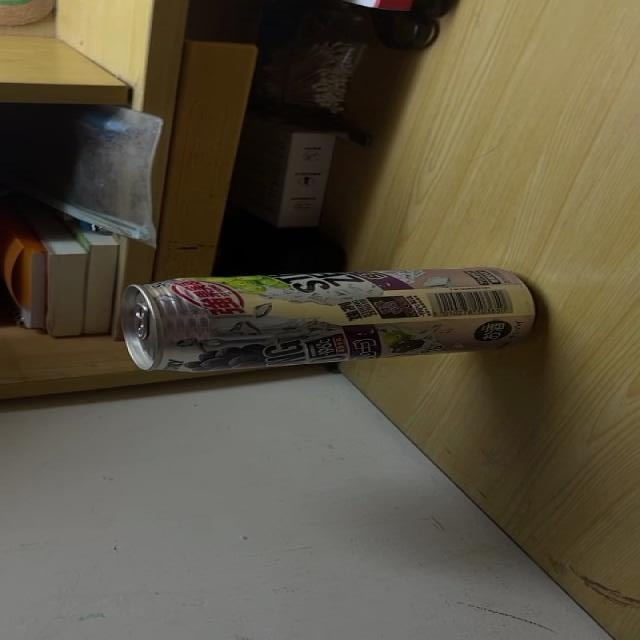Liquor: (120, 268, 538, 371)
